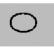no answer: (9, 11, 38, 33)
